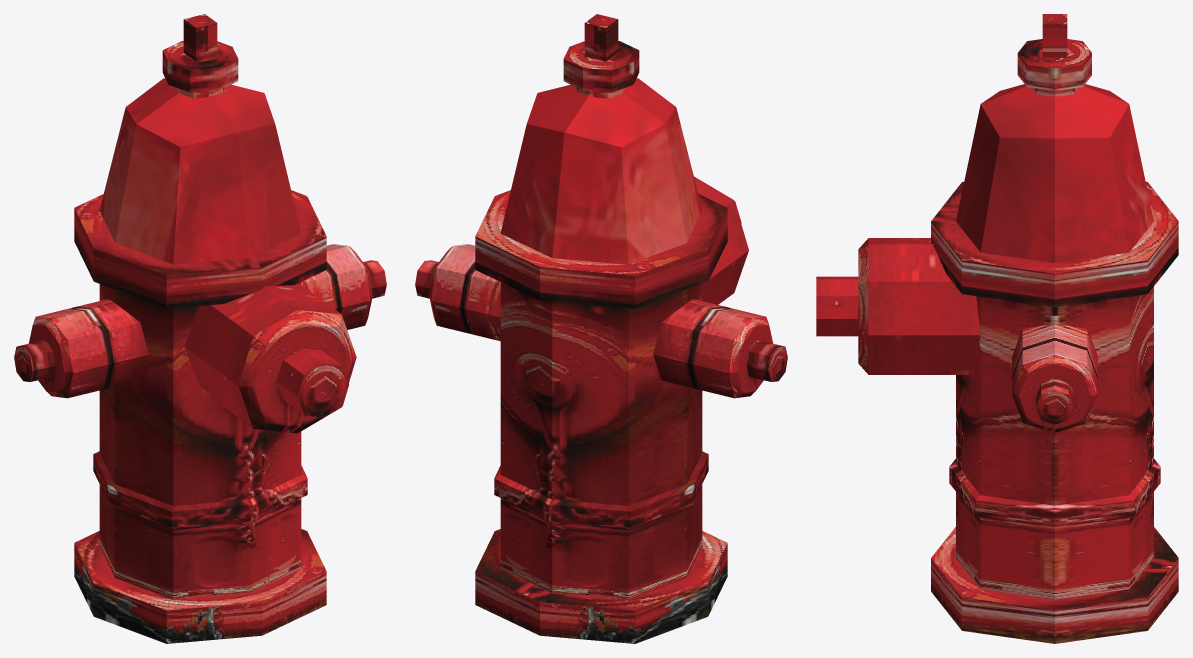
Rendered from fire-hydrant.fbx.
3 renders of one model, left to right at view 1: azimuth 30°, elevation 25°; view 2: azimuth 150°, elevation 25°; view 3: azimuth 270°, elevation 25°, orthographic.
Parts seen in each view (by area): view 1: Plane.057; view 2: Plane.057; view 3: Plane.057.
Boxes of the visible parts, x1=… form: Plane.057: x1=14, y1=14, x2=386, y2=643; Plane.057: x1=415, y1=14, x2=787, y2=643; Plane.057: x1=816, y1=14, x2=1178, y2=643.
Size of the model in its own units: 132 by 203 by 117.
1 material, 1 textured.
